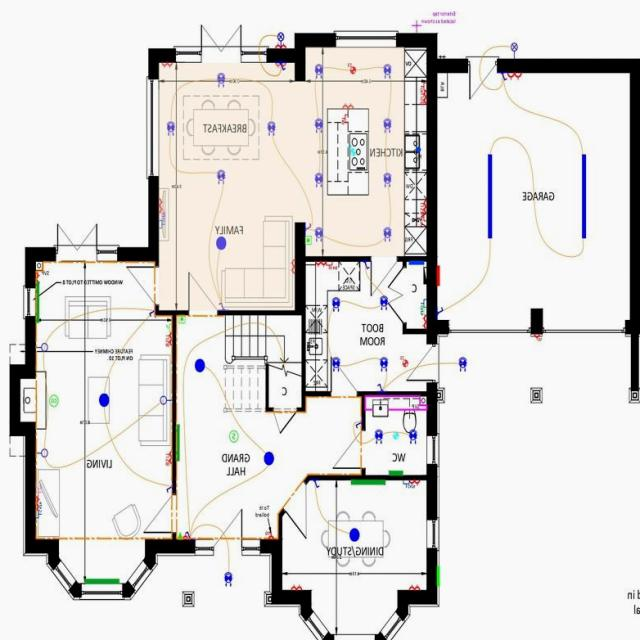BT Entry Point: (175, 530, 182, 538)
Cat 6 Data Socket: (157, 214, 166, 230), (418, 296, 426, 311), (34, 508, 44, 519), (399, 478, 410, 488)
Ceiling Mounted Continuous Extract Fan With Boost Mode Activated By Light Switch: (390, 428, 401, 445)
Ceiling Mounted Continuous Extract Fan With Local Boost Switch: (397, 354, 414, 371), (344, 61, 358, 74)
Co-Ax TV Socket: (34, 484, 41, 496)
Consumer Unit: (422, 265, 426, 286)
Double Socket: (288, 255, 296, 278), (159, 61, 177, 70), (157, 193, 165, 213), (340, 101, 360, 109), (269, 41, 295, 47), (288, 582, 306, 590), (407, 478, 421, 488), (313, 260, 326, 270), (273, 61, 289, 69), (405, 583, 424, 589), (507, 72, 523, 79), (34, 496, 42, 509), (421, 314, 426, 333)
Electric Meter Box: (435, 262, 440, 286)
External Wall Light: (503, 38, 522, 58), (273, 30, 288, 46)
Gas Meter Box: (434, 562, 444, 588)
Hob Switch: (340, 111, 348, 126), (415, 80, 426, 90), (326, 261, 336, 270)
Internal Wall Light: (34, 447, 50, 461), (160, 392, 171, 410), (35, 340, 48, 354)
Light Switch: (309, 477, 324, 488), (276, 59, 287, 74), (496, 70, 507, 82), (353, 417, 362, 431), (373, 382, 386, 391), (164, 481, 172, 495), (358, 260, 372, 268), (183, 528, 193, 538), (436, 303, 443, 317), (146, 307, 154, 319)
Low Energy Downlighter: (212, 167, 232, 186), (262, 119, 280, 140), (454, 353, 472, 373), (376, 62, 396, 80), (380, 168, 397, 189), (371, 427, 388, 447), (221, 570, 235, 592), (312, 168, 326, 190), (213, 70, 230, 88), (378, 223, 393, 243), (309, 115, 324, 135), (376, 293, 389, 316), (406, 428, 421, 444), (331, 354, 343, 374), (163, 118, 176, 136), (380, 116, 393, 134), (313, 59, 325, 78), (378, 354, 390, 372), (311, 226, 325, 241), (330, 293, 341, 312)
Low Energy Pendant Light: (209, 232, 230, 250), (345, 522, 362, 544), (259, 445, 275, 468), (192, 356, 208, 375), (96, 392, 113, 408)
Mains Wired Smoke Detector: (226, 428, 239, 445)
Outside Socket: (531, 332, 543, 342)
Outside Tap: (409, 19, 425, 32)
Oven Switch: (416, 213, 426, 224)
Programmable Room Thermostat: (176, 314, 188, 324)
Radiator: (348, 476, 390, 486), (34, 279, 42, 323), (82, 575, 122, 583), (175, 421, 182, 464), (384, 466, 408, 474)
Recirculating Extractor Fan: (345, 144, 360, 160)
Single Socket: (31, 270, 41, 279), (265, 530, 274, 540), (181, 530, 187, 540)
Telephone Socket: (163, 320, 172, 331)
Twin LED Strip Light: (576, 152, 590, 242), (485, 150, 493, 240)
USB Double Socket: (161, 447, 172, 469), (160, 330, 172, 348), (418, 195, 426, 212), (418, 89, 427, 104)
Underfloor Heating Manifold: (406, 260, 426, 265)
Water Entry Position: (412, 144, 422, 156)
